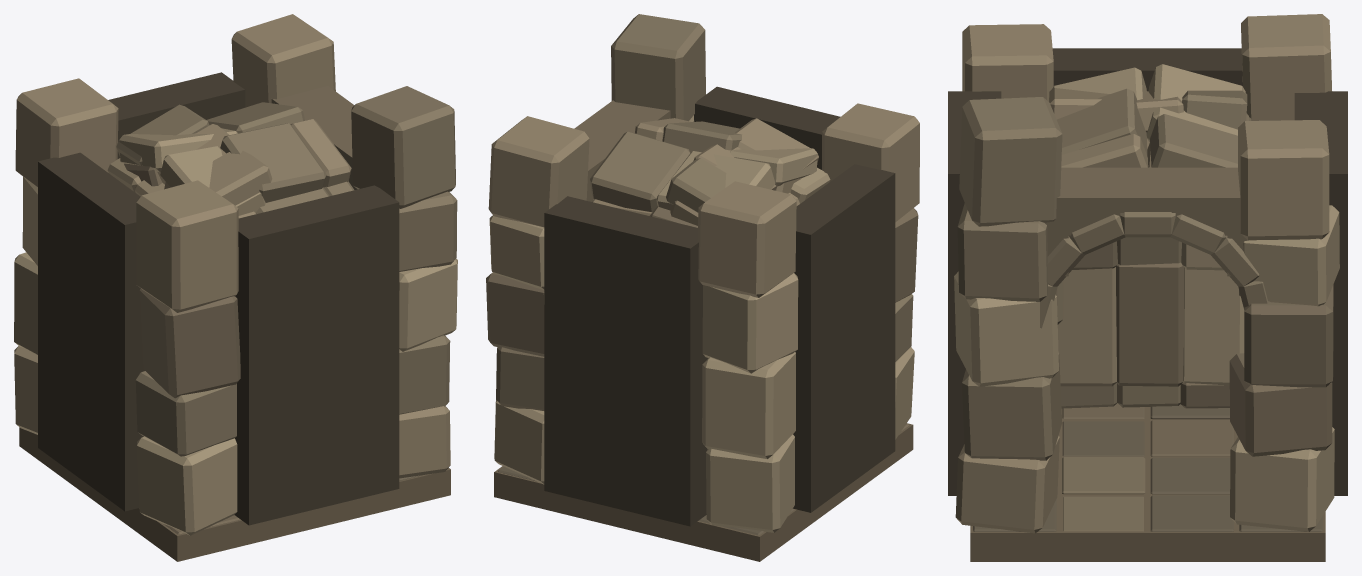
File: cripta-fondo.glb
3 views of the same model, side by side, from view 1: azimuth 30°, elevation 25°; view 2: azimuth 150°, elevation 25°; view 3: azimuth 270°, elevation 25° (orthographic). The views are drawn at different scales.
Visible parts, largest first — view 1: cripta-fondo2; view 2: cripta-fondo2; view 3: cripta-fondo2.
Part boxes in pixels (box(x1,y1,x2,y2)): cripta-fondo2: box(14, 14, 457, 561); cripta-fondo2: box(486, 14, 919, 561); cripta-fondo2: box(948, 14, 1347, 561).
Size of the model in its own units: 4.4 by 5.38 by 4.5.
